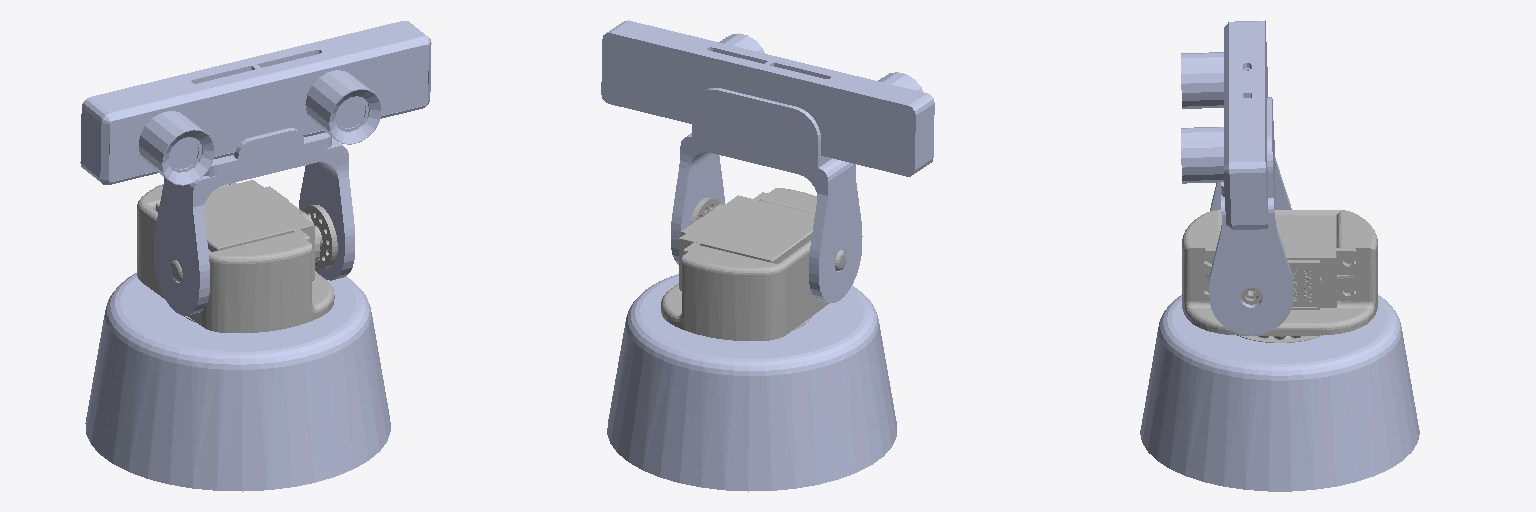
URDF robot description (camera_mechanism_model):
<?xml version="1.0" encoding="utf-8"?>
<!-- This URDF was automatically created by SolidWorks to URDF Exporter! Originally created by [author] ([email redacted]) 
     Commit Version: 1.6.0-4-g7f85cfe  Build Version: 1.6.7995.38578
     For more information, please see http://wiki.ros.org/sw_urdf_exporter -->
<robot
  name="camera_mechanism_model">
  <link
    name="base_link">
    <inertial>
      <origin
        xyz="-1.04202392871856E-08 -0.00344224088498781 0.0261980811182989"
        rpy="0 0 0" />
      <mass
        value="0.090334008845598" />
      <inertia
        ixx="6.84673036710358E-05"
        ixy="5.99792417796738E-12"
        ixz="1.34390537477221E-12"
        iyy="6.51228346971038E-05"
        iyz="-1.88731865013642E-07"
        izz="0.000101737015622684" />
    </inertial>
    <visual>
      <origin
        xyz="0 0 0"
        rpy="0 0 0" />
      <geometry>
        <mesh
          filename="package://camera_mechanism_model/meshes/base_link.STL" />
      </geometry>
      <material
        name="">
        <color
          rgba="0.792156862745098 0.819607843137255 0.933333333333333 1" />
      </material>
    </visual>
    <collision>
      <origin
        xyz="0 0 0"
        rpy="0 0 0" />
      <geometry>
        <mesh
          filename="package://camera_mechanism_model/meshes/base_link.STL" />
      </geometry>
    </collision>
  </link>
  <link
    name="link_1">
    <inertial>
      <origin
        xyz="-0.00274428257190968 -0.00020748847805208 0.0169598693710931"
        rpy="0 0 0" />
      <mass
        value="0.0762928038541526" />
      <inertia
        ixx="2.78524913265596E-05"
        ixy="1.44751279636948E-08"
        ixz="7.79881822675902E-07"
        iyy="1.38848895102569E-05"
        iyz="1.4640337530444E-08"
        izz="3.46925557643959E-05" />
    </inertial>
    <visual>
      <origin
        xyz="0 0 0"
        rpy="0 0 0" />
      <geometry>
        <mesh
          filename="package://camera_mechanism_model/meshes/link_1.STL" />
      </geometry>
      <material
        name="">
        <color
          rgba="0.752941176470588 0.752941176470588 0.752941176470588 1" />
      </material>
    </visual>
    <collision>
      <origin
        xyz="0 0 0"
        rpy="0 0 0" />
      <geometry>
        <mesh
          filename="package://camera_mechanism_model/meshes/link_1.STL" />
      </geometry>
    </collision>
  </link>
  <joint
    name="joint_1"
    type="revolute">
    <origin
      xyz="0 0 0.045256"
      rpy="0 0 0" />
    <parent
      link="base_link" />
    <child
      link="link_1" />
    <axis
      xyz="0 0 -1" />
    <limit
      lower="-1.5708"
      upper="1.5708"
      effort="15"
      velocity="137" />
  </joint>
  <link
    name="link_2">
    <inertial>
      <origin
        xyz="-0.000656123852365626 -0.0133684637742143 0.0684614118427633"
        rpy="0 0 0" />
      <mass
        value="0.0760046548351893" />
      <inertia
        ixx="1.01097278745385E-05"
        ixy="-8.26121264437275E-07"
        ixz="-3.14738619919485E-08"
        iyy="8.75759430262868E-05"
        iyz="3.75975452138261E-08"
        izz="8.43979936608012E-05" />
    </inertial>
    <visual>
      <origin
        xyz="0 0 0"
        rpy="0 0 0" />
      <geometry>
        <mesh
          filename="package://camera_mechanism_model/meshes/link_2.STL" />
      </geometry>
      <material
        name="">
        <color
          rgba="0.792156862745098 0.819607843137255 0.933333333333333 1" />
      </material>
    </visual>
    <collision>
      <origin
        xyz="0 0 0"
        rpy="0 0 0" />
      <geometry>
        <mesh
          filename="package://camera_mechanism_model/meshes/link_2.STL" />
      </geometry>
    </collision>
  </link>
  <joint
    name="joint_2"
    type="revolute">
    <origin
      xyz="0 0 0"
      rpy="0 0 0" />
    <parent
      link="link_1" />
    <child
      link="link_2" />
    <axis
      xyz="-1 0 0" />
    <limit
      lower="-1.5708"
      upper="1.5708"
      effort="15"
      velocity="137" />
  </joint>
</robot>

--- What the picture shows (computed from the rendered views, not written in the file) ---
The picture shows the robot from 3 angles, left to right: view 1: azimuth 30°, elevation 25°; view 2: azimuth 150°, elevation 25°; view 3: azimuth 270°, elevation 25°; orthographic projection.
Model camera_mechanism_model with 3 links and 2 joints (2 revolute), rooted at base_link, posed every joint at zero.
Links seen in each view (by area): view 1: base_link, link_2, link_1; view 2: base_link, link_2, link_1; view 3: base_link, link_2, link_1.
Boxes of the visible links, x1=… form: base_link: x1=85, y1=271, x2=390, y2=491; link_2: x1=80, y1=21, x2=431, y2=315; link_1: x1=137, y1=180, x2=337, y2=332; base_link: x1=607, y1=274, x2=896, y2=491; link_2: x1=601, y1=20, x2=934, y2=302; link_1: x1=661, y1=188, x2=846, y2=340; base_link: x1=1140, y1=295, x2=1419, y2=491; link_2: x1=1181, y1=20, x2=1292, y2=335; link_1: x1=1182, y1=210, x2=1377, y2=342.
Bounding box of the posed robot: 0.1245 × 0.1 × 0.1347 m (x, y, z).
Meshes: 3 distinct files referenced, 3 mesh visuals loaded (3 binary STL).